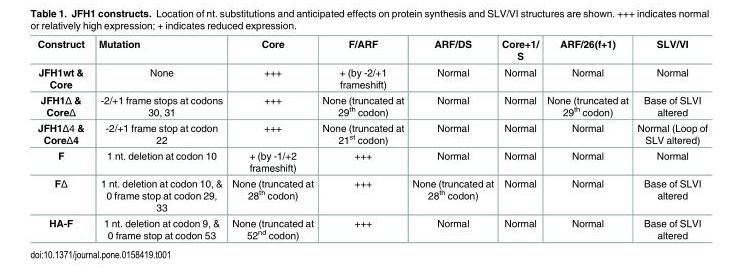table: (36, 37, 707, 240)
table column: (90, 37, 226, 240), (226, 37, 317, 240), (317, 37, 407, 240), (407, 37, 497, 240), (542, 37, 632, 240), (632, 37, 707, 240), (36, 37, 90, 240), (497, 37, 542, 240)
table column header: (36, 37, 707, 63)
table row: (36, 174, 707, 214), (36, 63, 707, 91), (36, 91, 707, 119), (36, 119, 707, 147), (36, 147, 707, 174), (36, 37, 707, 63), (36, 214, 707, 240)
